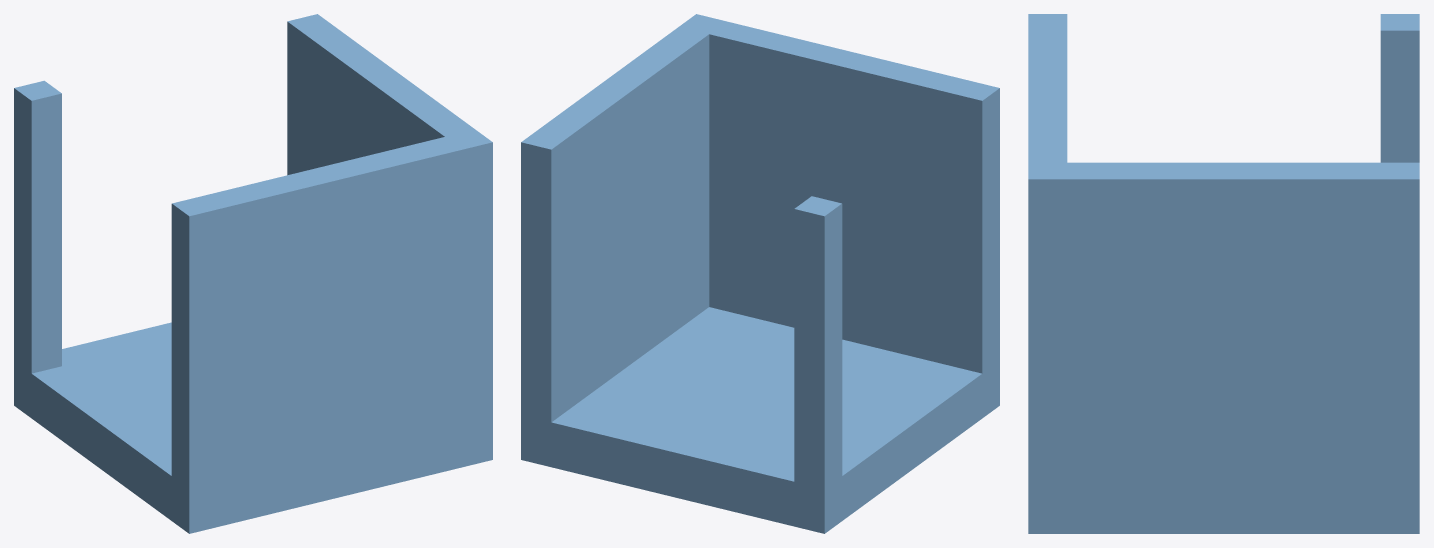
Rendered from Corner_Rail_A.fbx.
3 views of the same model, side by side, from view 1: azimuth 30°, elevation 25°; view 2: azimuth 150°, elevation 25°; view 3: azimuth 270°, elevation 25° (orthographic). The views are drawn at different scales.
Parts seen in each view (by area): view 1: Corner_Rail_A; view 2: Corner_Rail_A; view 3: Corner_Rail_A.
Part boxes in pixels (<box>): Corner_Rail_A: <box>14,14,492,533</box>; Corner_Rail_A: <box>521,14,999,533</box>; Corner_Rail_A: <box>1028,14,1419,533</box>.
Bounding box in the file's own units: 50 × 50 × 50.
